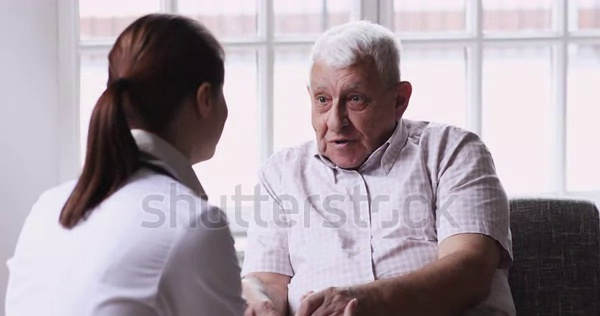No Mask: (309, 26, 414, 165)
